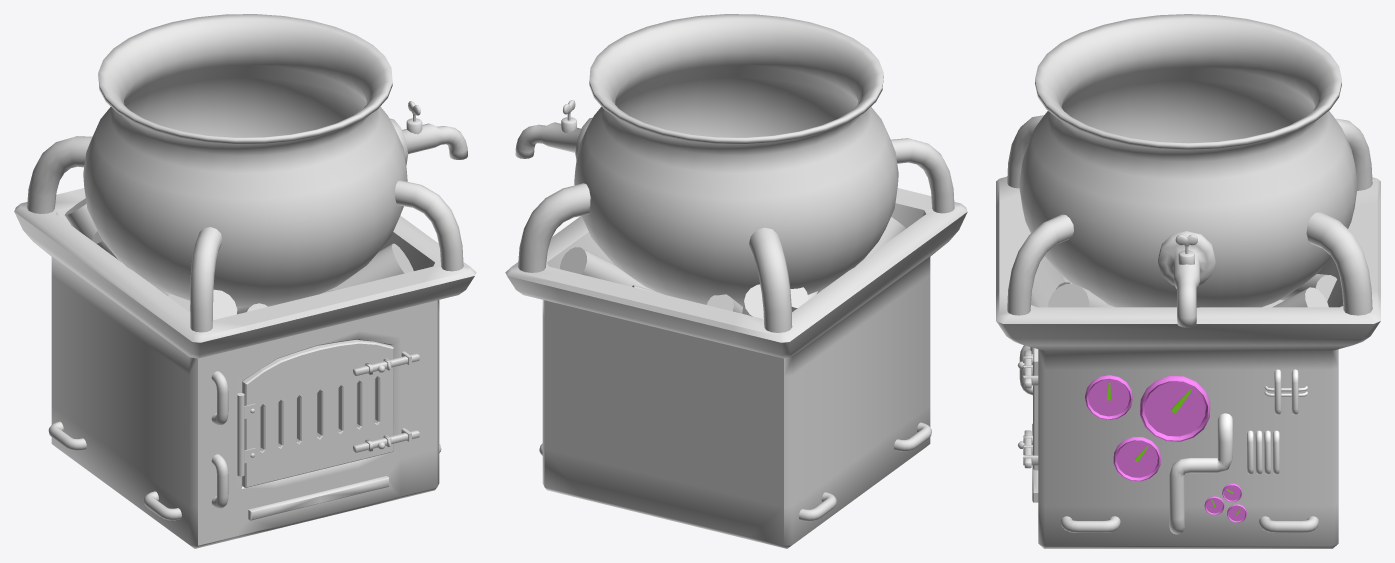
The model's file is cauldron_v3.fbx.
The picture shows the model from 3 angles, left to right: view 1: azimuth 30°, elevation 25°; view 2: azimuth 150°, elevation 25°; view 3: azimuth 270°, elevation 25°; orthographic projection. The views are drawn at different scales.
Visible parts, largest first — view 1: cauldron_base, cauldron, grate, tap, log, hinge, log.005, handle.001, handle, latch, latch.001, log.001 (+2 smaller); view 2: cauldron_base, cauldron, tap, log.004, handle.003, log.005, handle.002; view 3: cauldron, cauldron_base, gauge.003, tap, pipe, gauge.001, gauge.002, pipes, log, handle.005, handle.004, log.004 (+5 smaller).
Part boxes in pixels (x1,y1,x2,y2): cauldron_base: (14,136,476,548); cauldron: (83,14,407,308); grate: (242,340,393,487); tap: (389,118,467,165); log: (327,243,413,291); hinge: (237,393,255,476); log.005: (64,198,97,240); handle.001: (211,454,228,508); handle: (211,371,228,424); latch: (353,351,419,375); latch.001: (353,428,419,452); log.001: (213,289,237,319); cauldron_base: (505,138,967,548); cauldron: (574,14,898,306); tap: (515,117,592,160); log.004: (560,247,655,291); handle.003: (798,492,836,521); log.005: (742,284,763,318); handle.002: (894,422,931,451); cauldron: (1019,14,1357,307); cauldron_base: (996,115,1380,548); gauge.003: (1140,376,1210,441); tap: (1158,231,1215,327); pipe: (1169,413,1232,534); gauge.001: (1085,375,1132,420); gauge.002: (1113,437,1160,481); pipes: (1247,386,1307,474); log: (1048,284,1114,307); handle.005: (1259,516,1318,532); handle.004: (1060,516,1120,532); log.004: (1272,287,1328,307).
Size of the model in its own units: 290 by 301 by 256.
